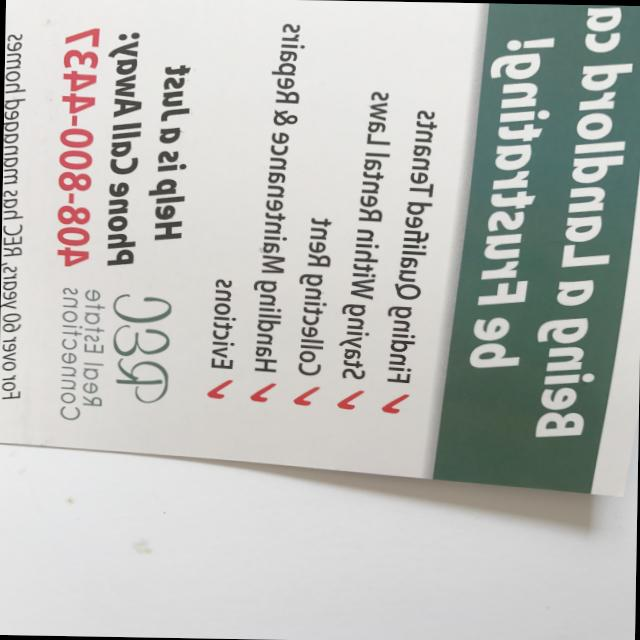Paper: (0, 0, 640, 498)
